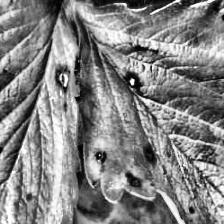Leaf Spot: (72, 0, 224, 224), (0, 0, 83, 224)
